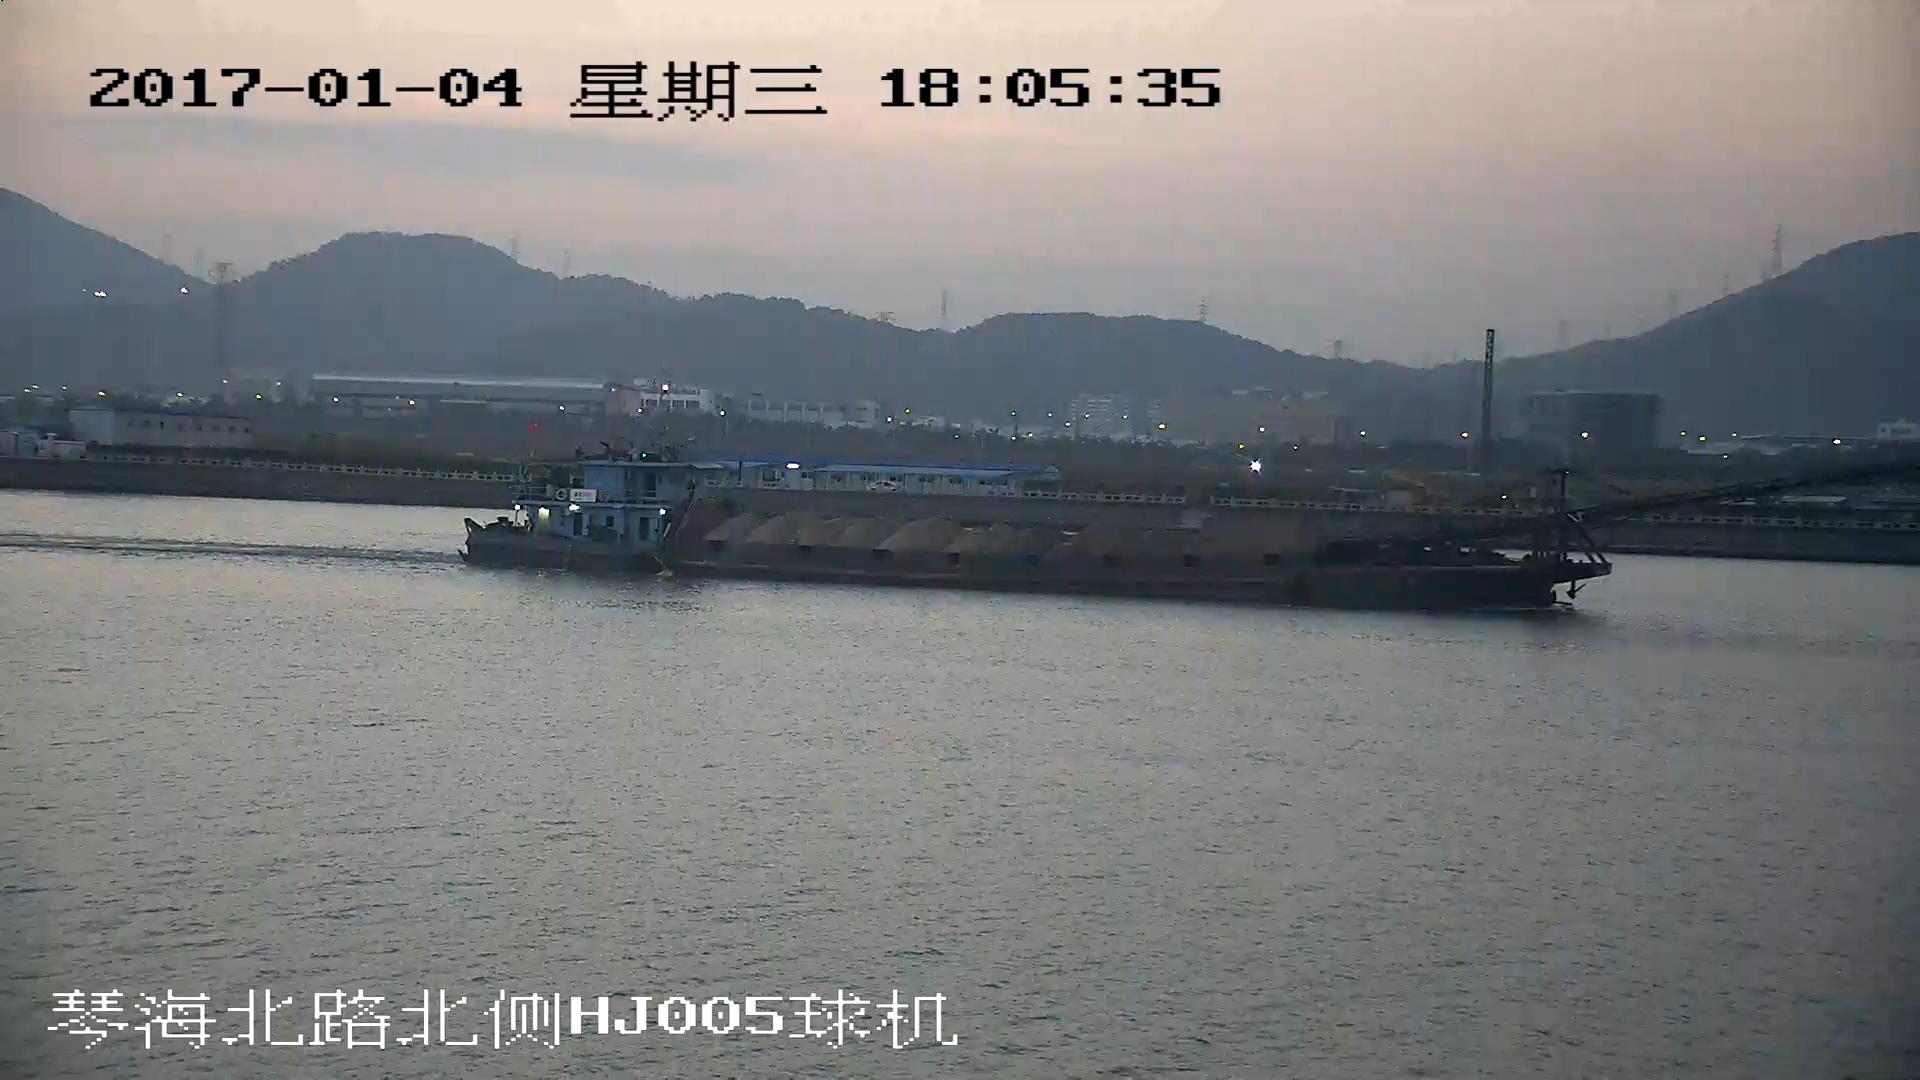ore carrier: (467, 463, 1842, 588)
